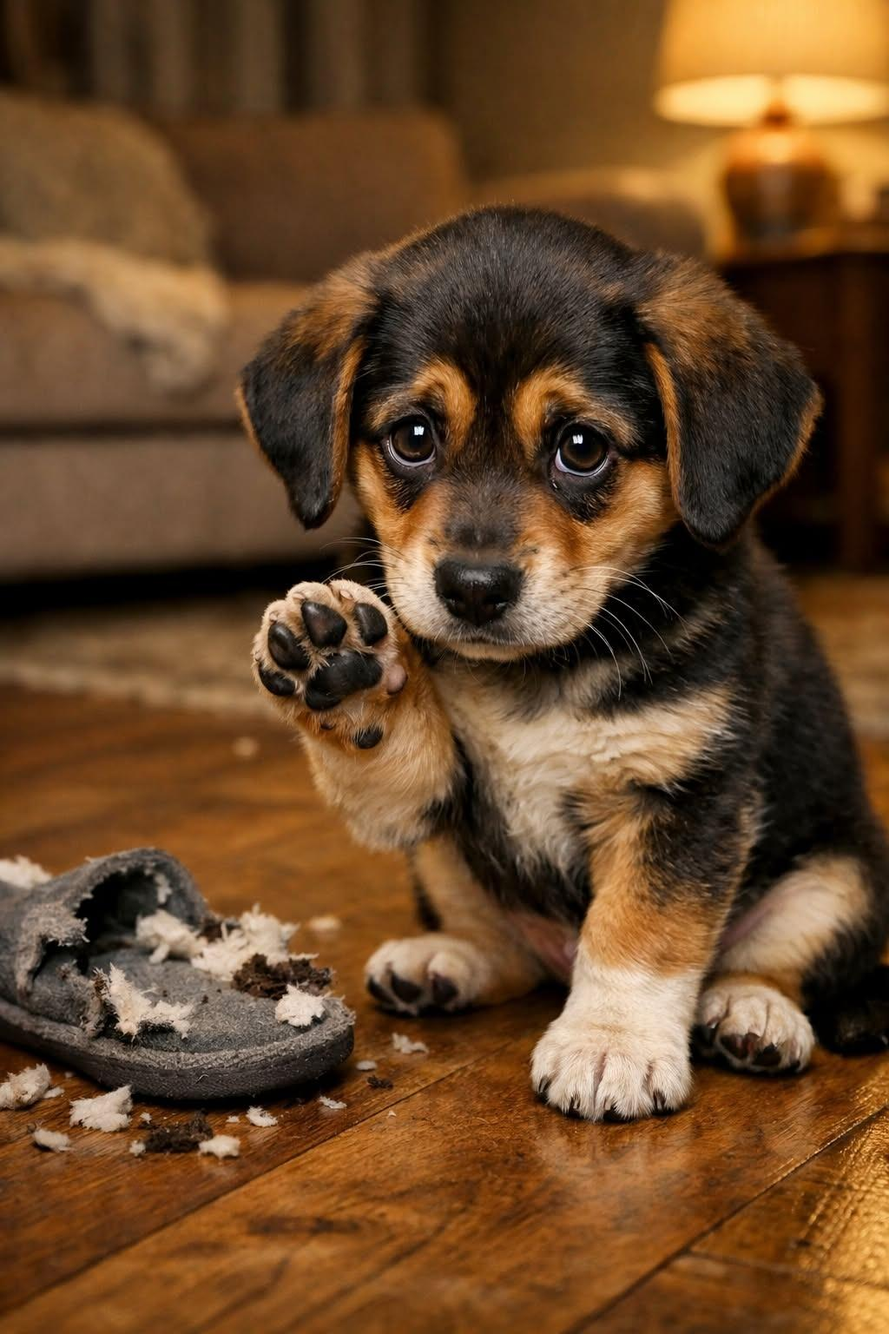puppy-dog: (236, 200, 889, 1125)
